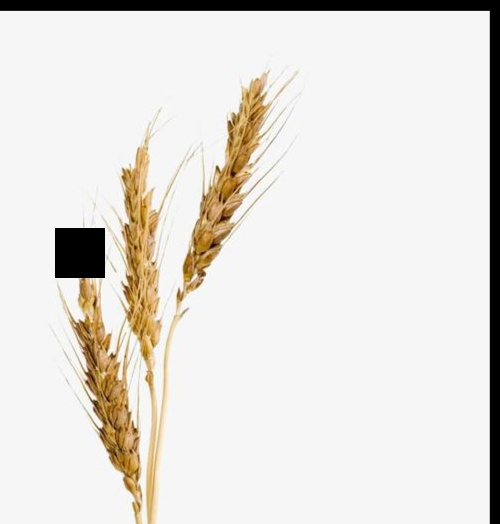wheat: (171, 50, 308, 343), (39, 254, 145, 500), (116, 123, 162, 389)
